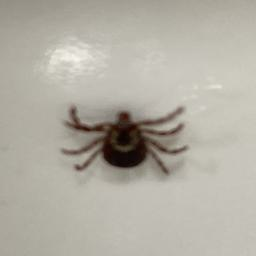Dermacentor variabilis: (59, 102, 191, 180)
